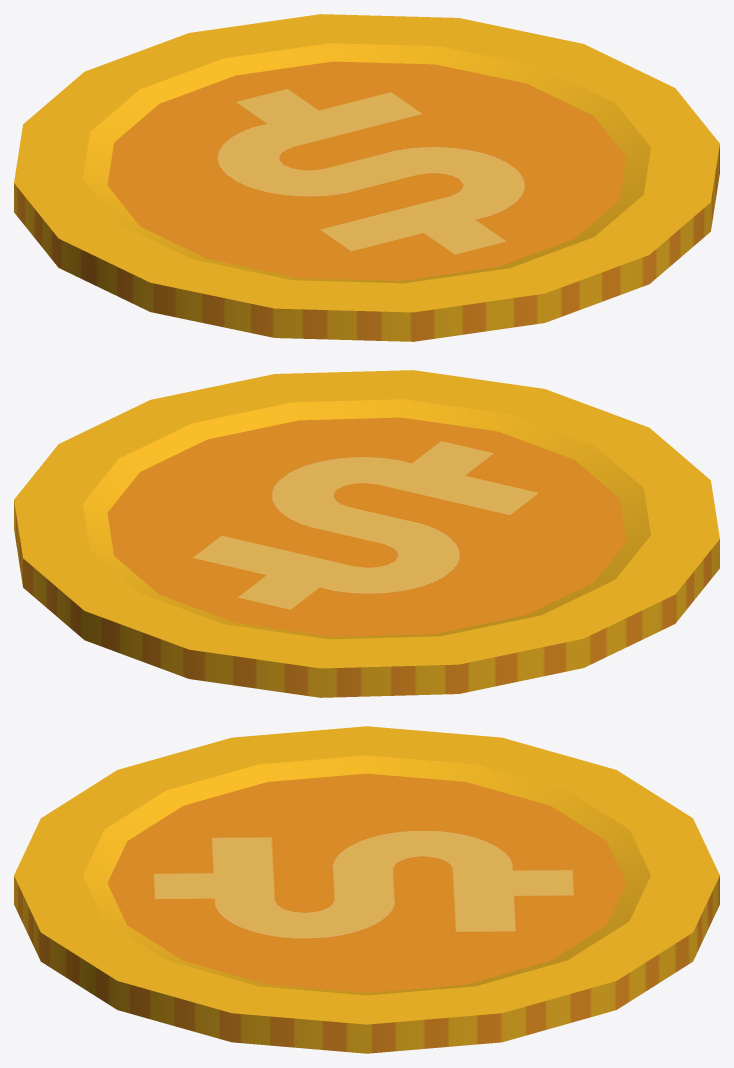
The model's file is Coin.fbx.
3 views of the same model, one above another, from view 1: azimuth 30°, elevation 25°; view 2: azimuth 150°, elevation 25°; view 3: azimuth 270°, elevation 25° (orthographic).
Visible parts, largest first — view 1: Cylinder; view 2: Cylinder; view 3: Cylinder.
Boxes of the visible parts, x1,y1,x2,y2 form: Cylinder: (14, 14, 719, 341); Cylinder: (14, 370, 719, 697); Cylinder: (14, 726, 719, 1053).
Size of the model in its own units: 200 by 9.1 by 200.
1 material, 1 textured.
